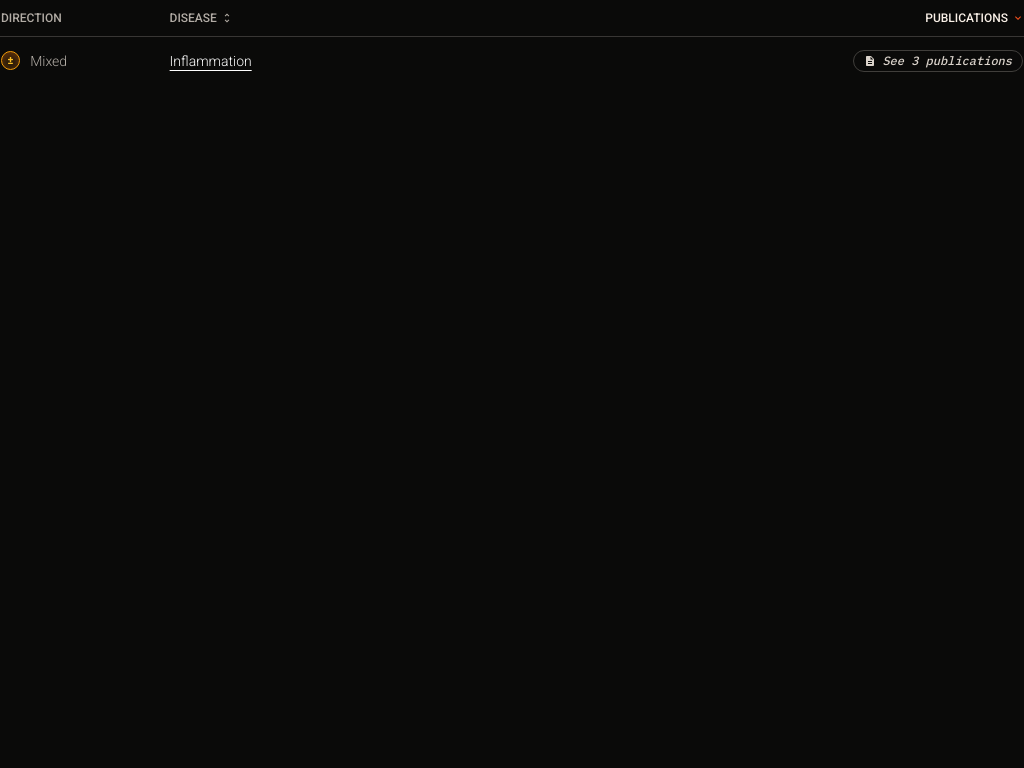
Test: mixed rows › separates the publications by direction in the modal
Expected: the link "inflammation" is shown, x1=170 y1=50 x2=252 y2=70
Click the button "See 3 publications".
click(938, 60)  # box x1=853 y1=50 x2=1023 y2=72
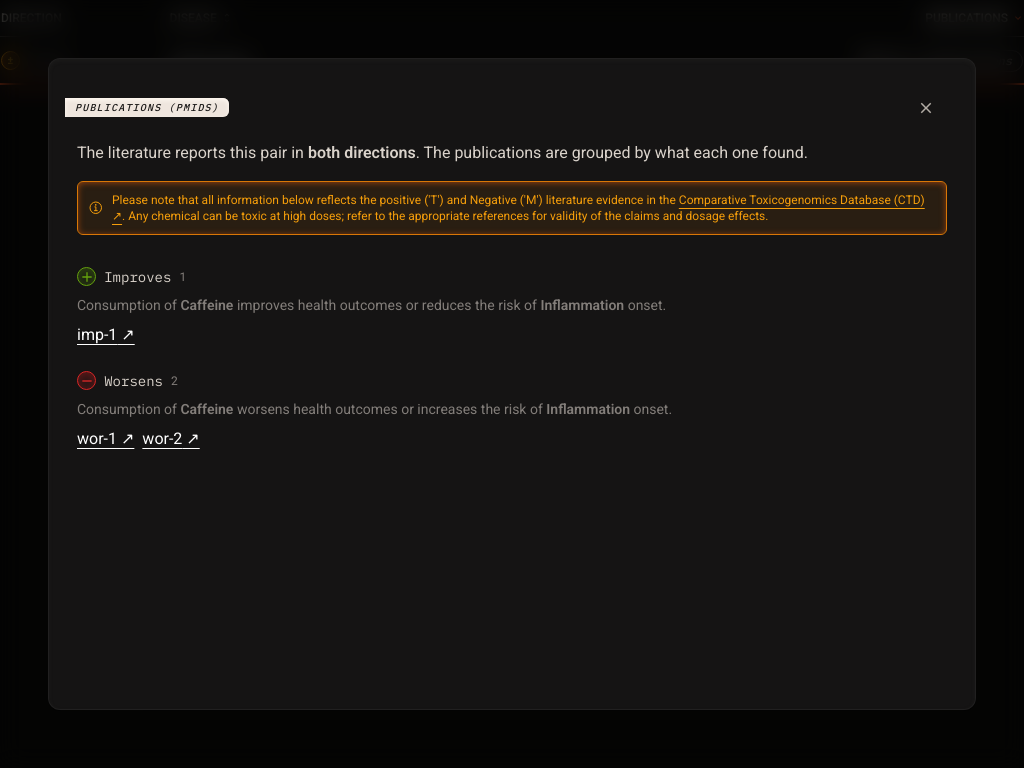
Result: the heading "Publications (PMIDs)" is shown at x1=65 y1=98 x2=229 y2=117
Result: the heading "Improves" is shown at x1=104 y1=267 x2=171 y2=287
Result: the heading "Worsens" is shown at x1=104 y1=371 x2=163 y2=391
